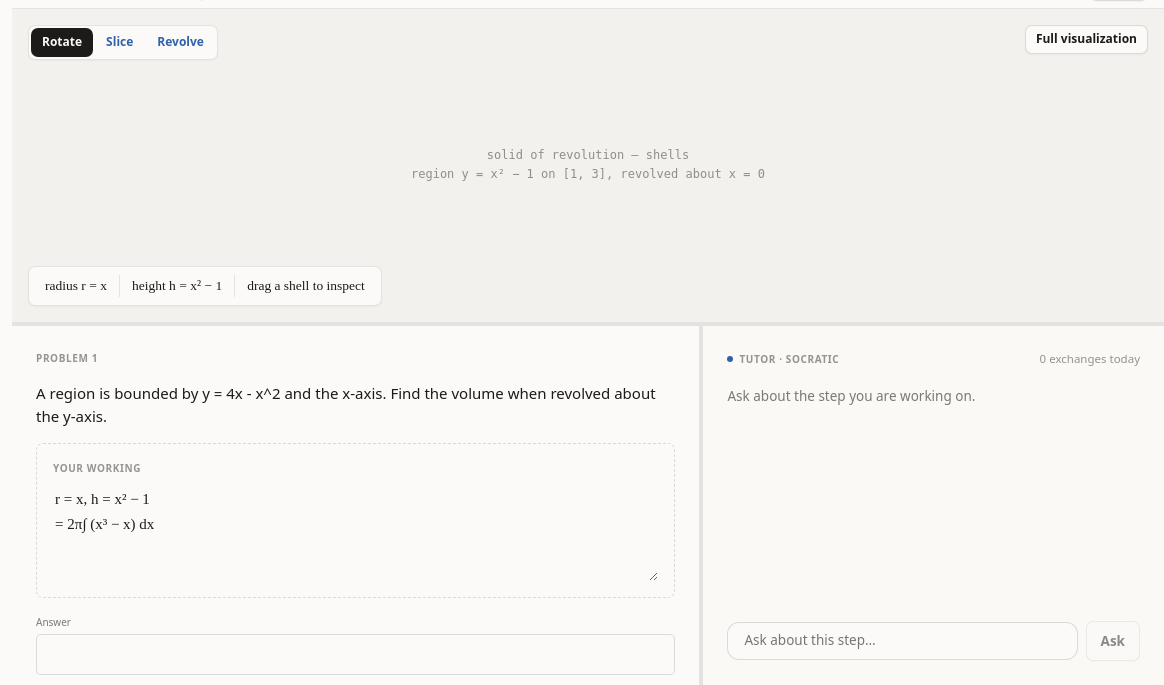
Test: StudySessionPage › offers a hint as the explanation when an answer is wrong
The width and height of the screenshot is (1164, 685).
In the field labelled "Answer": [356, 654] box [36,634,676,675], type "1"
(page scrolled)
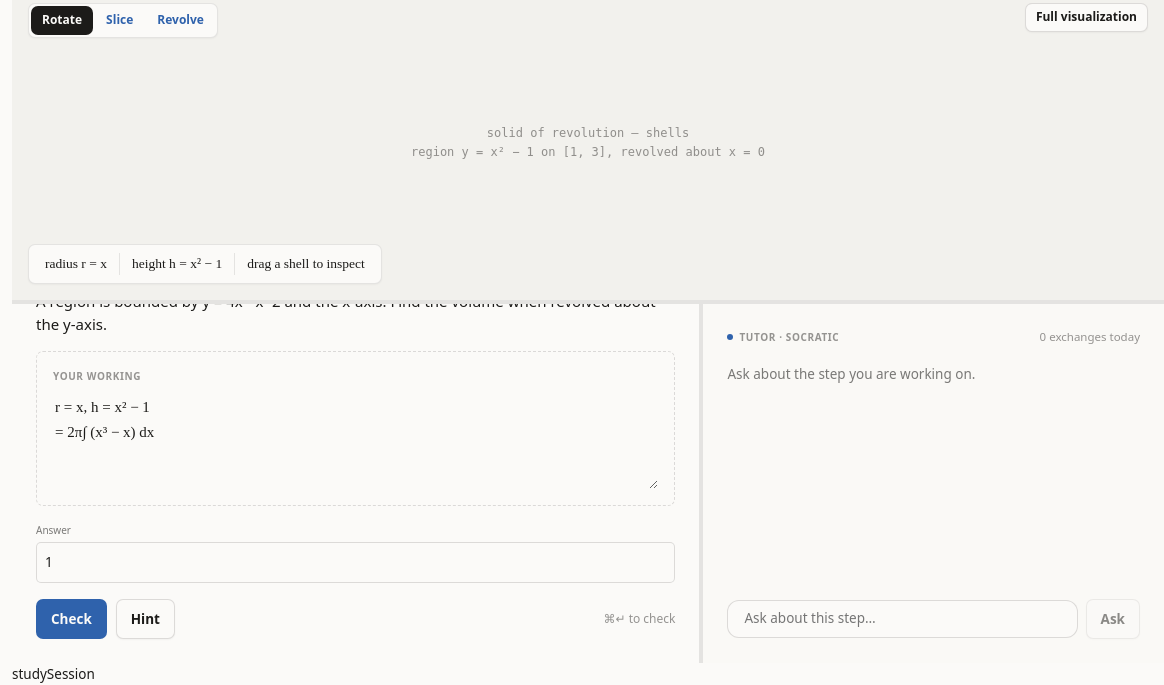
Click the button "Check": [71, 619] box [36,599,107,639]
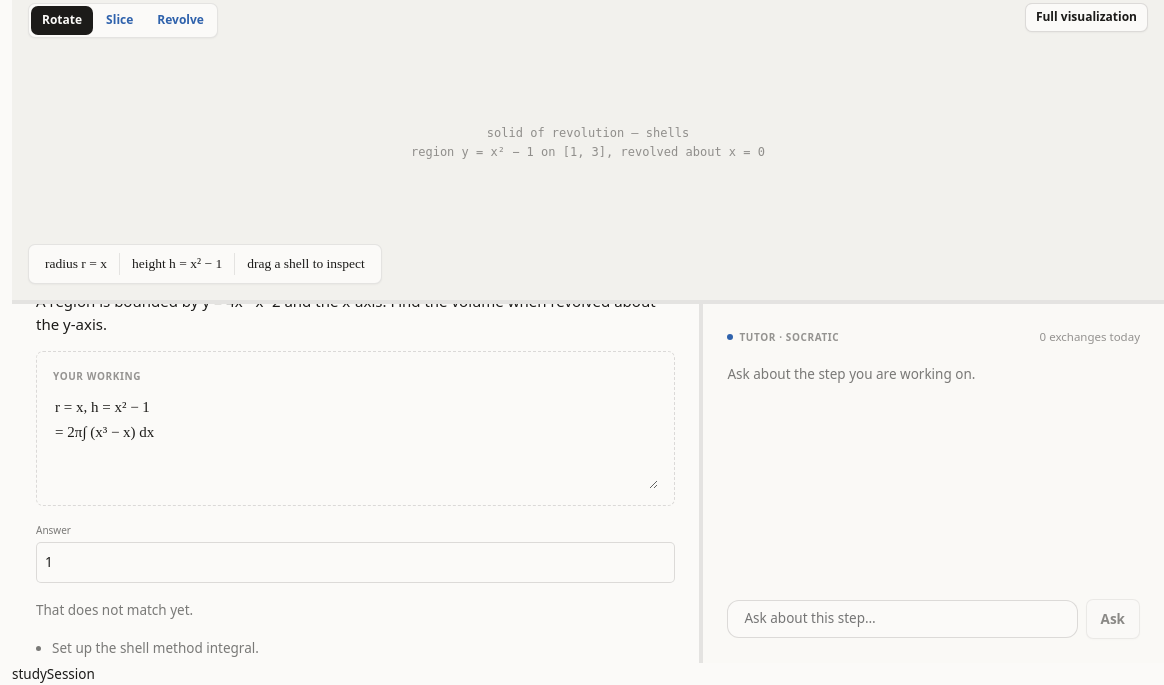
expect the list item "Set up the shell method integral." is shown: met, box [52,639,259,657]
